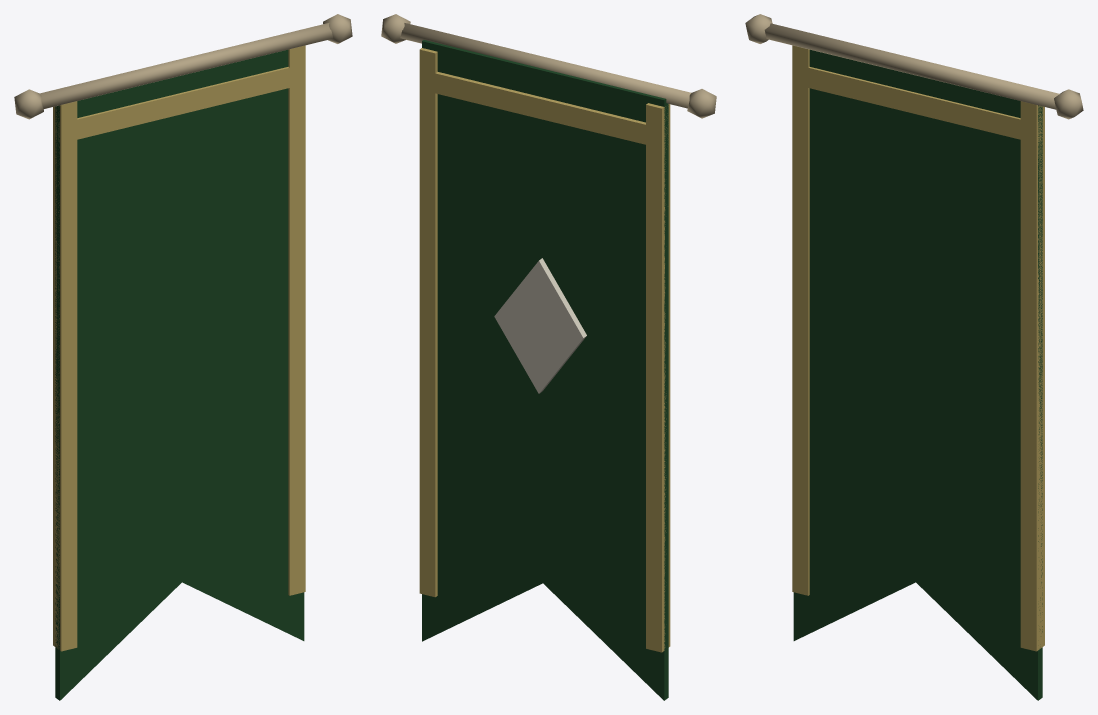
Rendered from nymph_banner_v0.glb.
3 renders of one model, left to right at view 1: azimuth 30°, elevation 25°; view 2: azimuth 150°, elevation 25°; view 3: azimuth 330°, elevation 25°, orthographic.
Visible parts, largest first — view 1: nymph_banner_v0; view 2: nymph_banner_v0; view 3: nymph_banner_v0.
Part boxes in pixels (x1=…): nymph_banner_v0: x1=14, y1=14, x2=352, y2=700; nymph_banner_v0: x1=381, y1=14, x2=716, y2=700; nymph_banner_v0: x1=745, y1=14, x2=1083, y2=700.
Bounding box in the file's own units: 1.04 × 1.84 × 0.0933.
